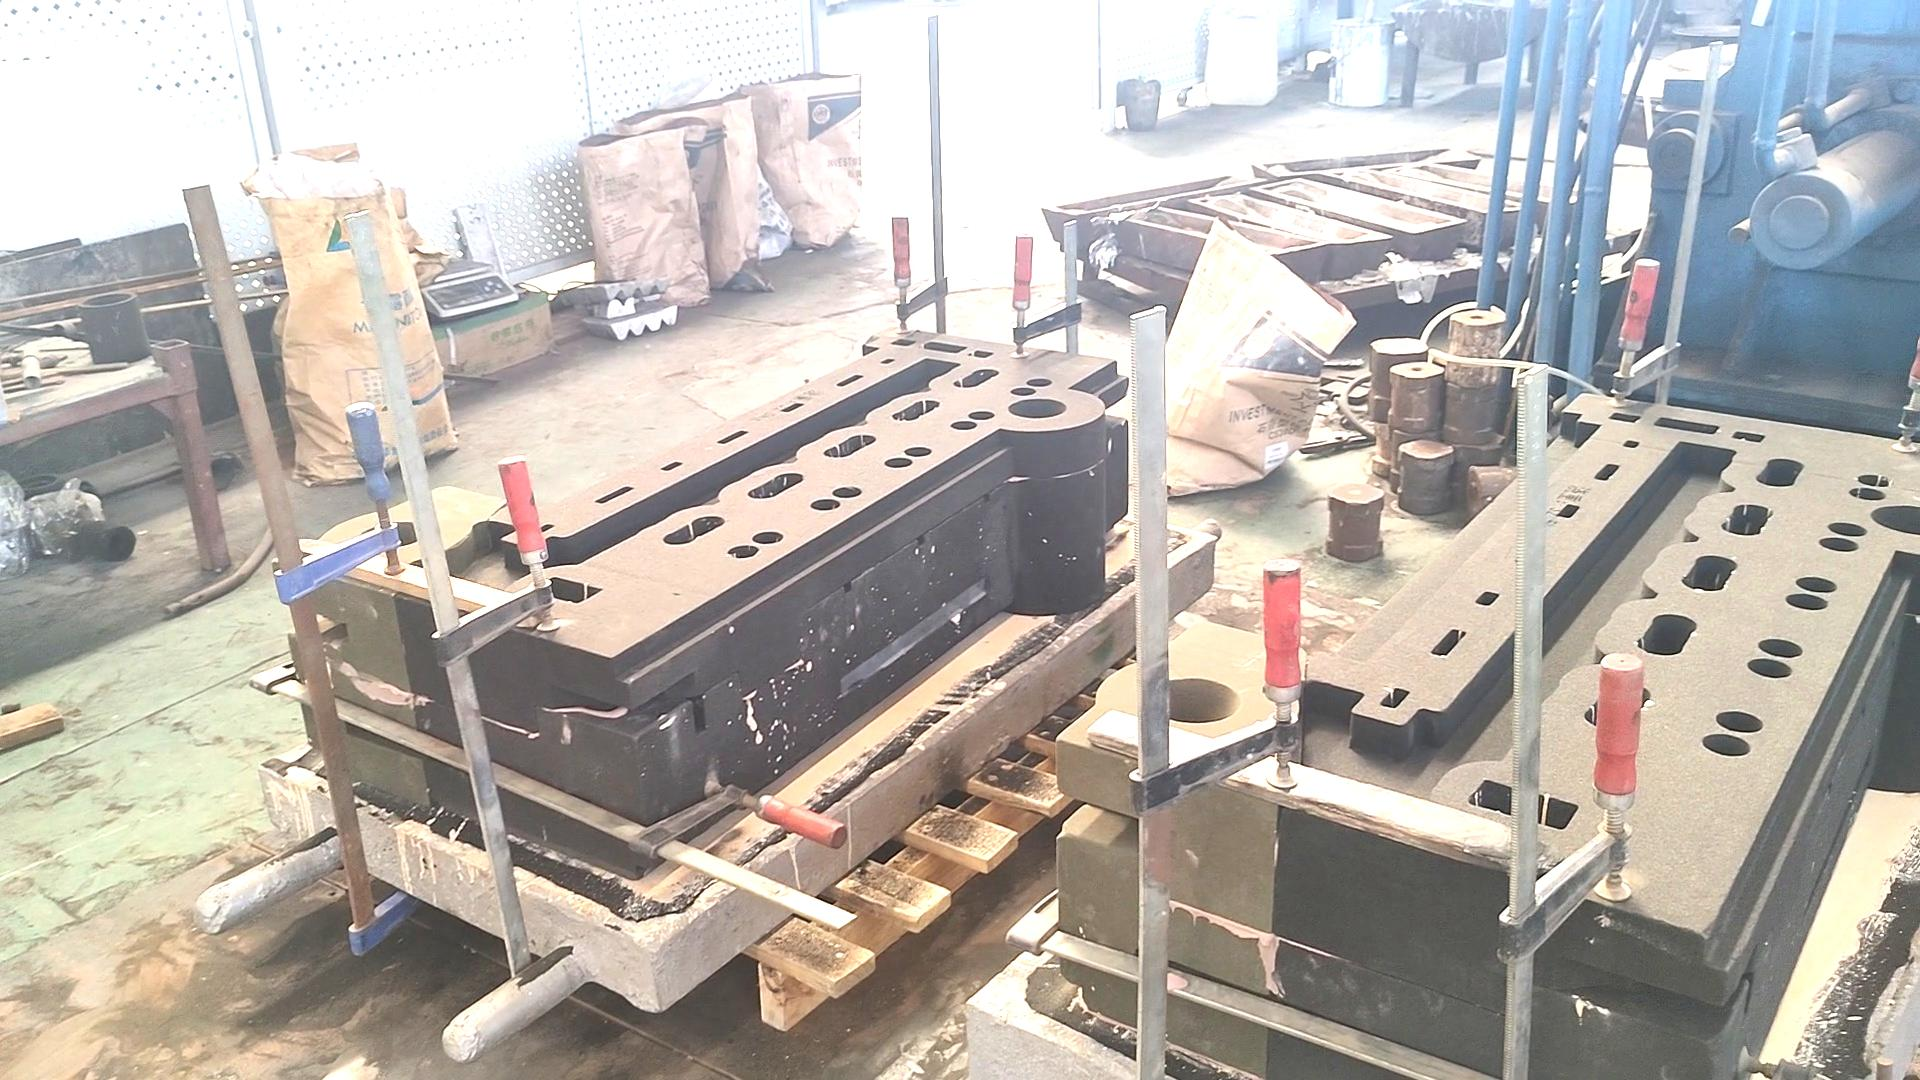pouring hole: (1153, 678, 1240, 723), (1869, 502, 1920, 537), (1005, 396, 1068, 419), (78, 287, 138, 309)
